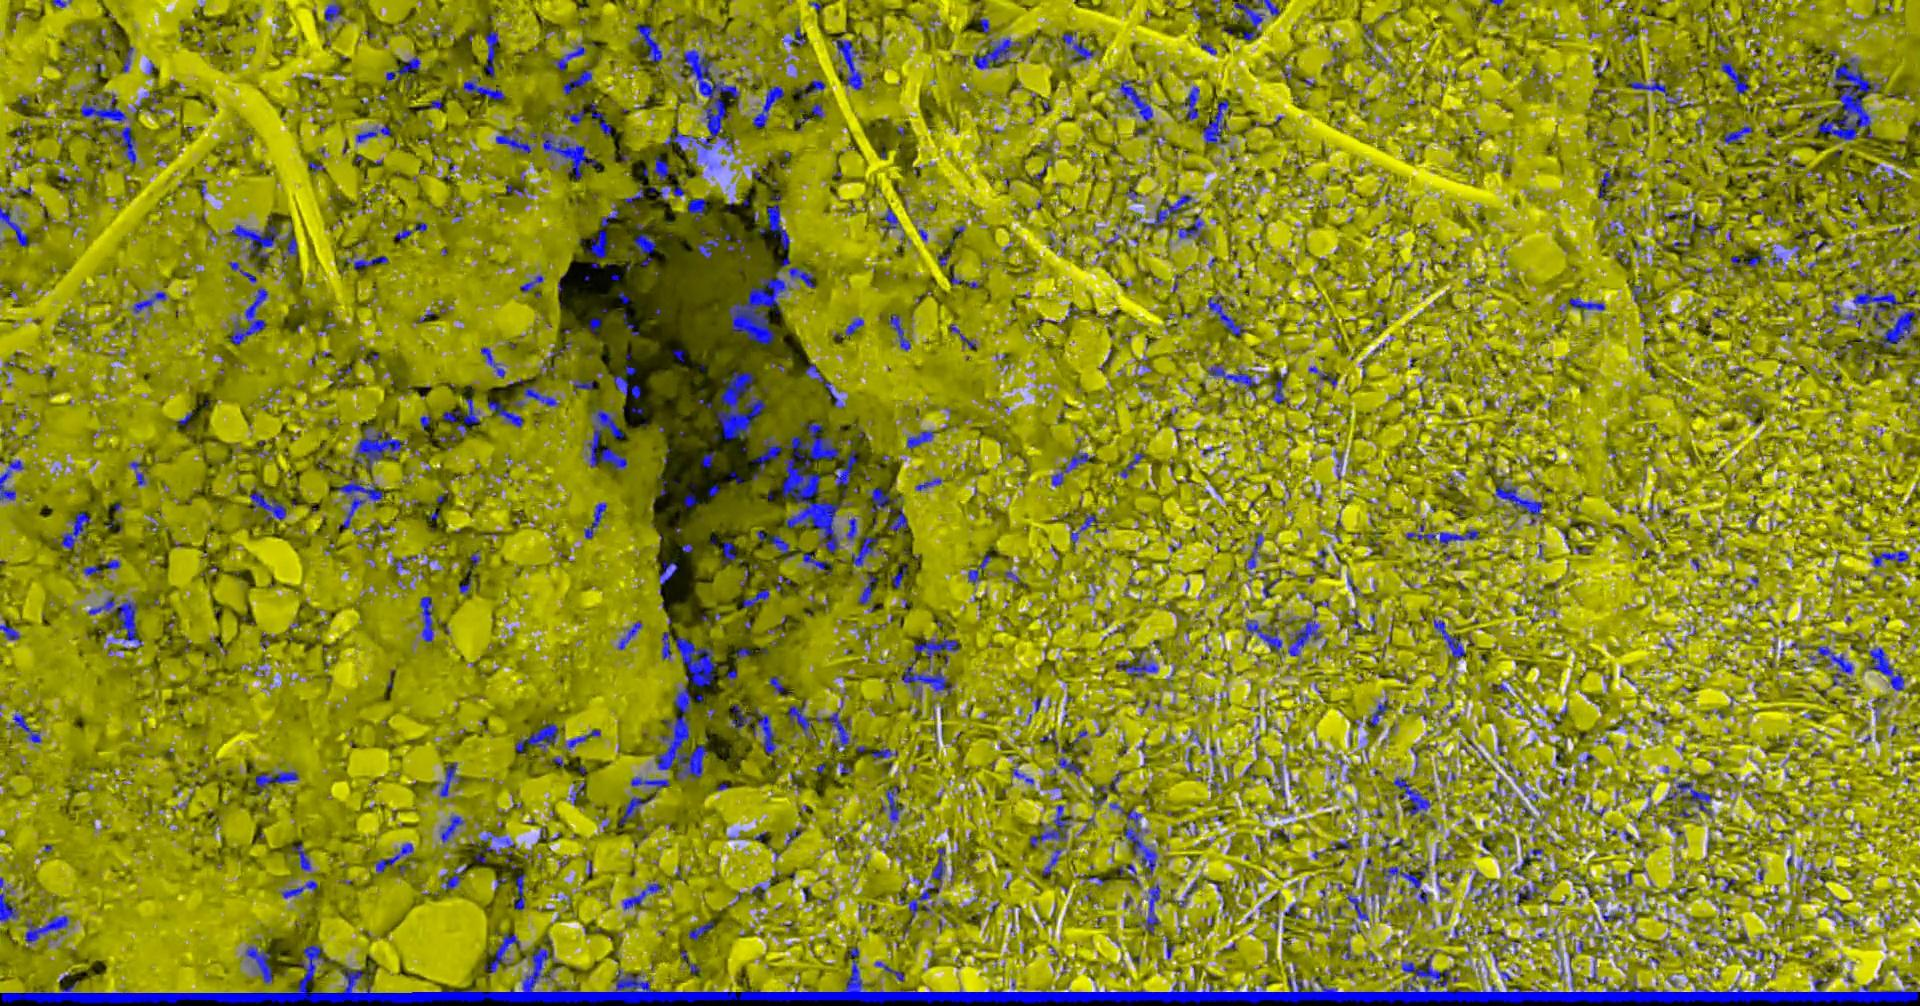ant: (1109, 801, 1161, 875), (787, 699, 850, 751), (540, 132, 599, 180), (88, 594, 142, 647), (352, 420, 404, 473), (588, 406, 627, 470), (337, 478, 382, 528), (1492, 479, 1543, 525), (229, 288, 267, 344), (1382, 862, 1429, 904), (231, 224, 279, 263), (804, 361, 843, 408), (1665, 781, 1716, 817), (1233, 0, 1279, 39), (1622, 72, 1680, 103), (1029, 804, 1069, 847), (869, 486, 907, 532), (585, 206, 618, 258), (1288, 603, 1321, 655), (758, 194, 789, 249), (1208, 295, 1247, 337), (1392, 777, 1430, 821), (1144, 194, 1191, 229), (1867, 647, 1903, 690), (973, 37, 1021, 69), (1404, 525, 1479, 545), (483, 934, 521, 972), (750, 434, 781, 481), (836, 38, 863, 89), (902, 666, 952, 694), (442, 398, 479, 436), (1117, 80, 1152, 121), (1050, 452, 1091, 486), (1816, 647, 1851, 685), (100, 126, 135, 165), (1432, 619, 1465, 659), (80, 93, 126, 122), (752, 85, 783, 127), (1243, 619, 1283, 652), (899, 885, 938, 918), (514, 721, 557, 751), (1208, 363, 1260, 387), (24, 915, 69, 942), (0, 205, 29, 246), (516, 379, 559, 406), (249, 488, 284, 521), (375, 842, 413, 873), (912, 636, 959, 661), (1203, 99, 1228, 144), (780, 257, 814, 288), (60, 512, 90, 547), (1070, 513, 1100, 550), (756, 530, 794, 558), (1092, 771, 1121, 807), (254, 771, 298, 794), (622, 883, 660, 909), (245, 945, 272, 983), (462, 76, 504, 100), (1115, 652, 1157, 676), (1062, 30, 1095, 61), (1719, 58, 1749, 93), (618, 796, 653, 826), (636, 22, 662, 61), (754, 706, 775, 754), (850, 535, 880, 567), (632, 224, 655, 265), (0, 459, 23, 500), (11, 710, 41, 742), (488, 400, 522, 427), (385, 56, 420, 81), (345, 253, 389, 273), (888, 312, 910, 351), (436, 762, 461, 796), (484, 30, 502, 79), (470, 842, 512, 862), (583, 502, 606, 539), (495, 128, 530, 152), (1512, 848, 1543, 875), (480, 347, 505, 379), (552, 46, 585, 70), (1145, 883, 1161, 934), (881, 786, 903, 822), (588, 102, 611, 135), (630, 776, 669, 795), (563, 69, 590, 95), (132, 291, 166, 312), (949, 323, 977, 348), (803, 551, 833, 574), (1244, 532, 1263, 568), (1172, 880, 1197, 907), (617, 621, 641, 649), (1178, 86, 1199, 119), (968, 554, 990, 583), (1345, 890, 1368, 920), (281, 880, 317, 898), (568, 729, 599, 749), (439, 815, 463, 842), (1308, 365, 1336, 387), (419, 596, 433, 641), (730, 702, 753, 730), (834, 318, 863, 339), (1365, 699, 1387, 728), (1730, 251, 1763, 271), (1870, 550, 1909, 567), (1120, 452, 1144, 478), (356, 124, 390, 142), (613, 375, 640, 398), (858, 570, 876, 605), (658, 561, 677, 593), (229, 260, 257, 282), (1512, 884, 1542, 904), (1568, 297, 1604, 314), (442, 866, 466, 890), (795, 79, 825, 98), (874, 962, 904, 981), (394, 221, 425, 239), (1827, 908, 1859, 926), (1723, 124, 1752, 144), (1117, 862, 1140, 887), (1271, 371, 1288, 404), (1041, 848, 1062, 875), (1597, 166, 1614, 198), (281, 229, 297, 260), (1178, 216, 1203, 238), (688, 920, 714, 940), (742, 588, 768, 607), (291, 843, 310, 870), (905, 431, 933, 448), (696, 236, 719, 258), (880, 207, 900, 231), (0, 893, 17, 922), (623, 183, 643, 207), (1057, 757, 1082, 775), (783, 24, 805, 44), (931, 847, 943, 882), (679, 950, 698, 973), (513, 873, 524, 909), (653, 155, 669, 180), (687, 198, 706, 220), (768, 676, 790, 695), (621, 312, 639, 335), (1262, 574, 1280, 597), (392, 555, 417, 572), (130, 461, 145, 485), (564, 108, 584, 126), (458, 567, 471, 594), (519, 276, 542, 291), (890, 565, 905, 588), (569, 781, 584, 804), (1011, 768, 1032, 784), (916, 478, 941, 490), (721, 541, 735, 564), (324, 3, 340, 22), (0, 622, 19, 639), (1351, 608, 1364, 633), (1669, 807, 1698, 817), (121, 46, 132, 71), (1125, 183, 1140, 202), (871, 747, 897, 758), (573, 379, 593, 392), (1601, 908, 1623, 921), (177, 412, 193, 428), (662, 631, 670, 659), (1699, 224, 1718, 236), (683, 492, 698, 507), (846, 517, 856, 540), (1719, 876, 1735, 892), (1200, 41, 1217, 55), (701, 451, 715, 467), (735, 647, 752, 661), (588, 318, 601, 335), (1330, 840, 1351, 850), (750, 885, 764, 899), (83, 565, 102, 575), (725, 669, 737, 685), (100, 559, 119, 568), (937, 253, 950, 265), (419, 413, 430, 427), (52, 0, 71, 8), (979, 18, 989, 32), (811, 103, 822, 117)
